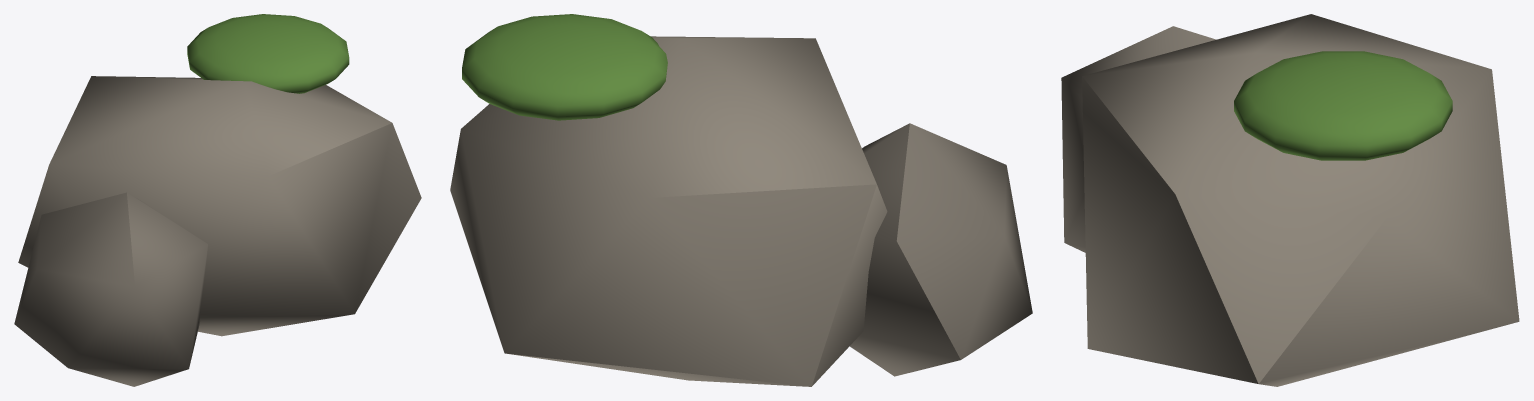
The model's file is rock_big.fbx.
The picture shows the model from 3 angles, left to right: view 1: azimuth 30°, elevation 25°; view 2: azimuth 150°, elevation 25°; view 3: azimuth 270°, elevation 25°; orthographic projection. The views are drawn at different scales.
Parts seen in each view (by area): view 1: rock_big; view 2: rock_big; view 3: rock_big.
Part boxes in pixels (x1,y1,x2,y2): rock_big: [14, 14, 421, 386]; rock_big: [450, 14, 1032, 386]; rock_big: [1061, 14, 1519, 386].
Bounding box in the file's own units: 1.99 × 1.24 × 1.45.
